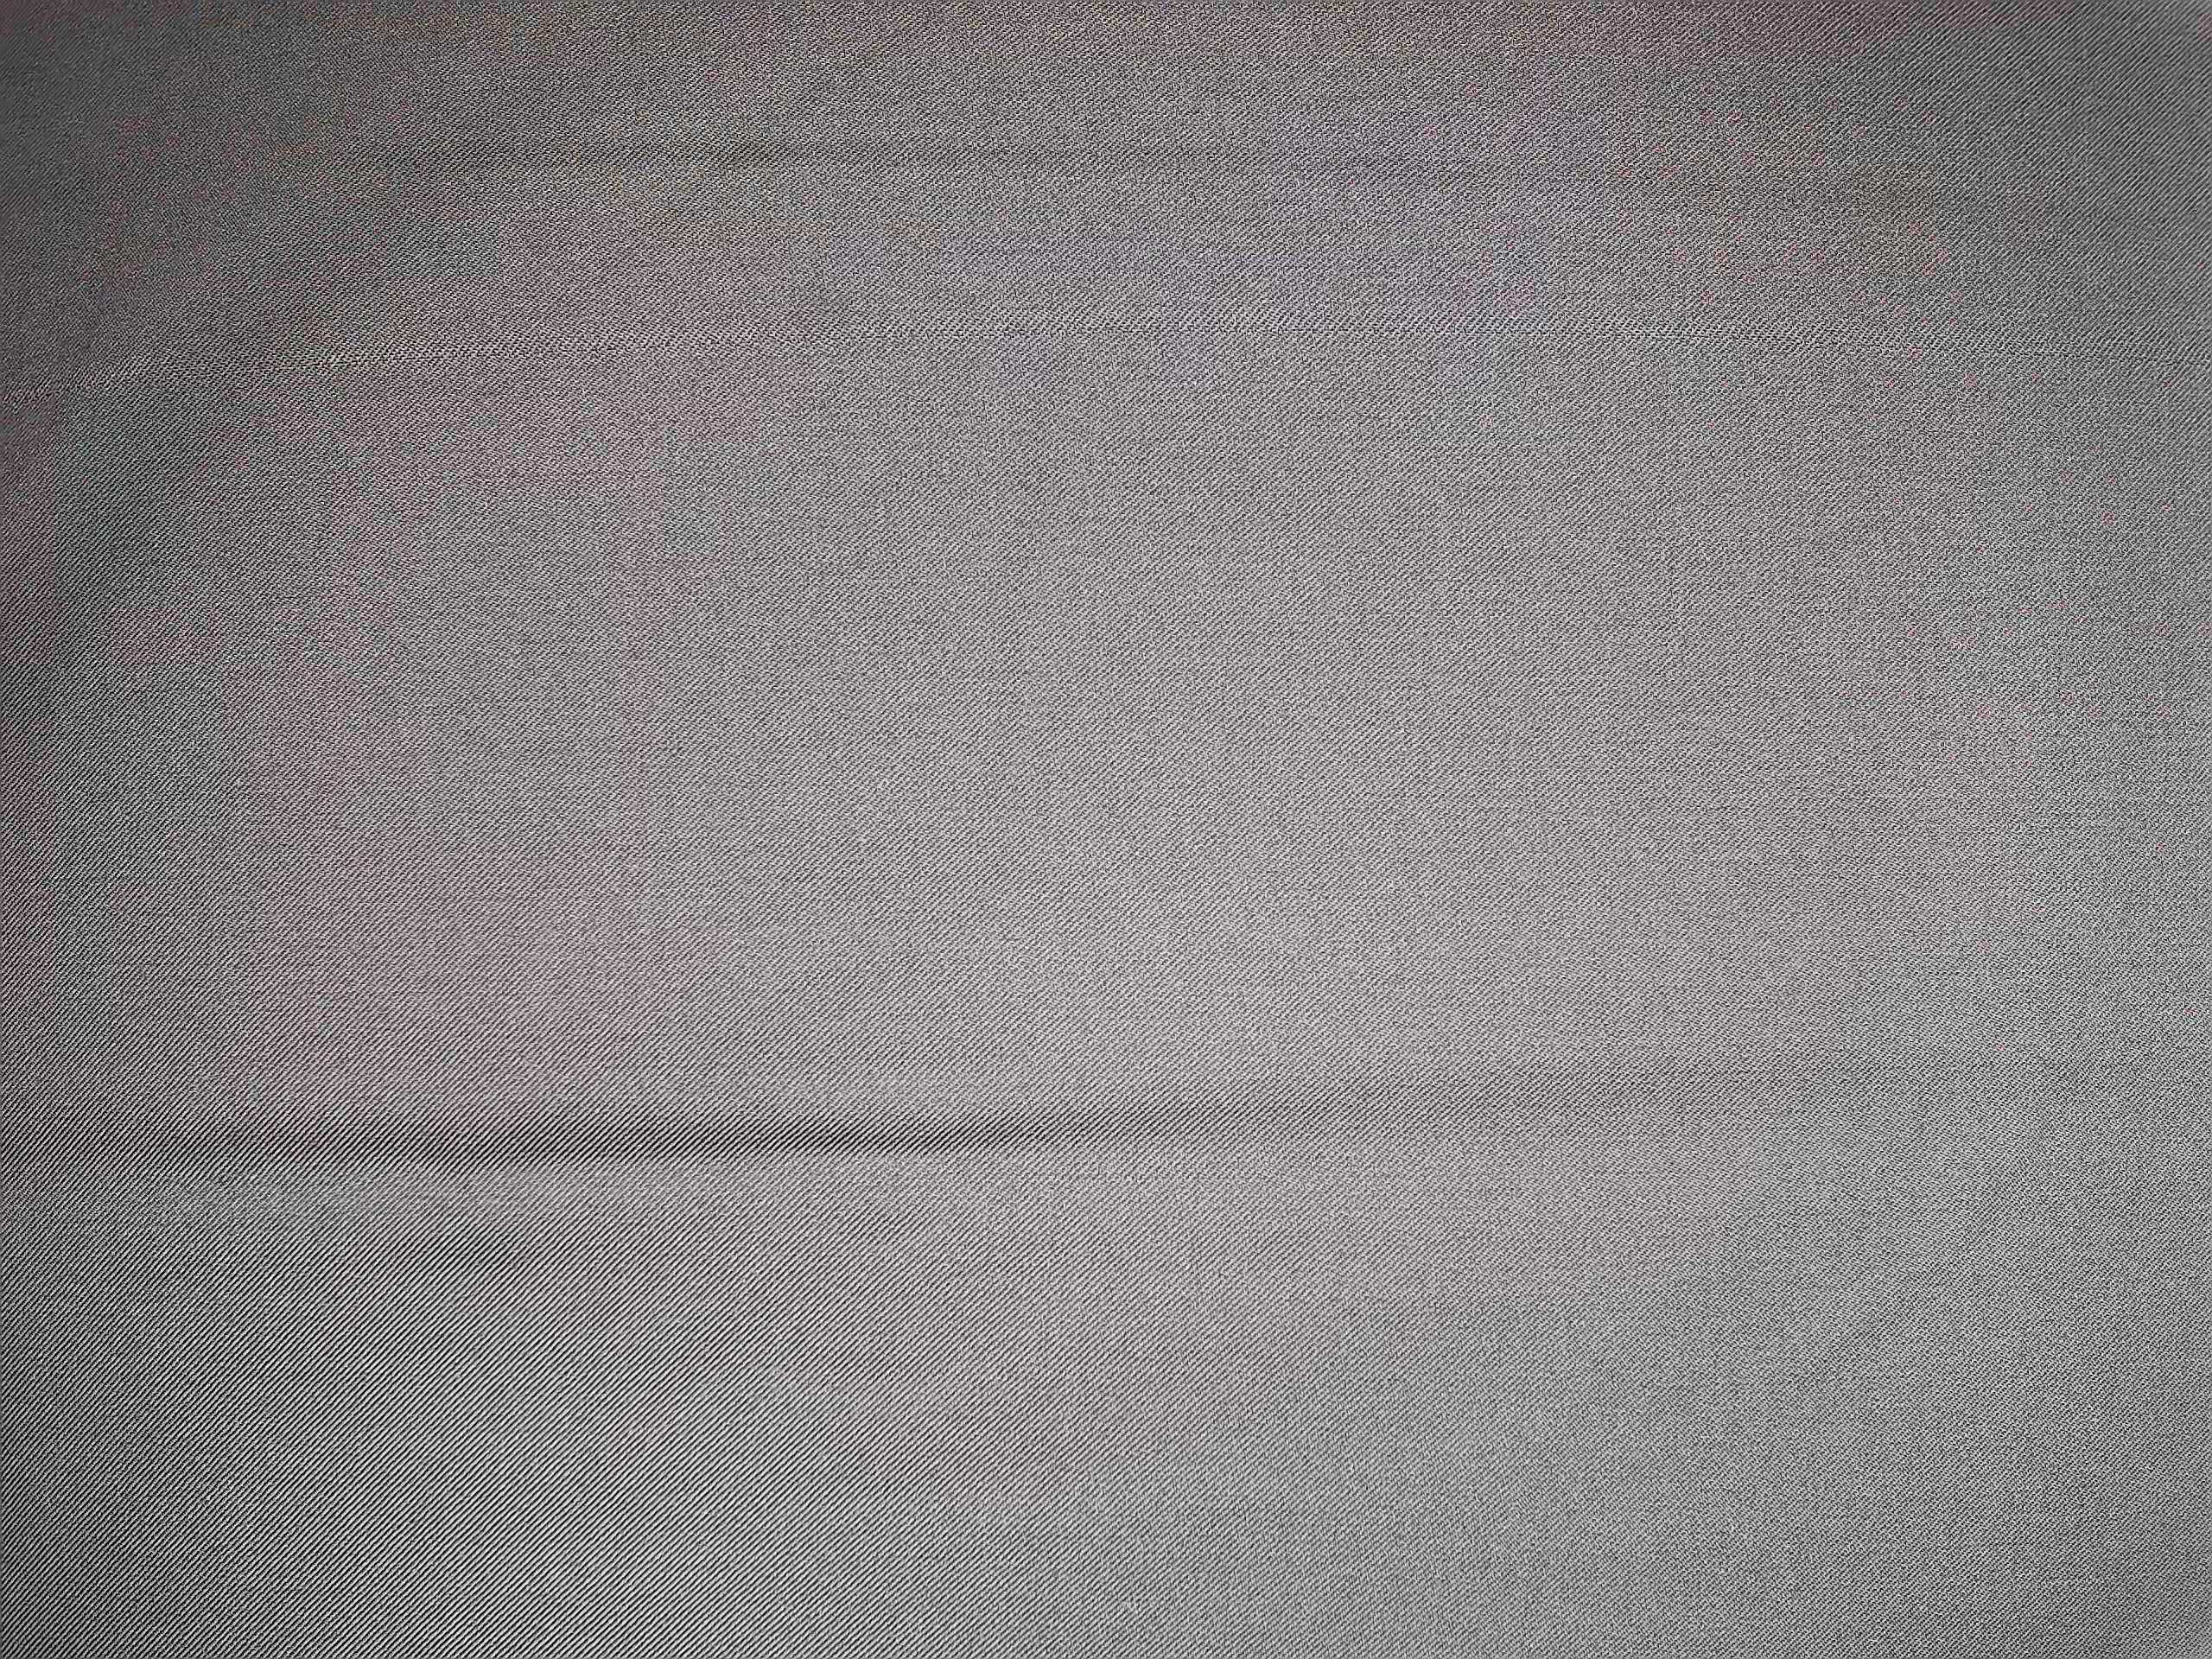thin-spinning: (7, 310, 1902, 401)
